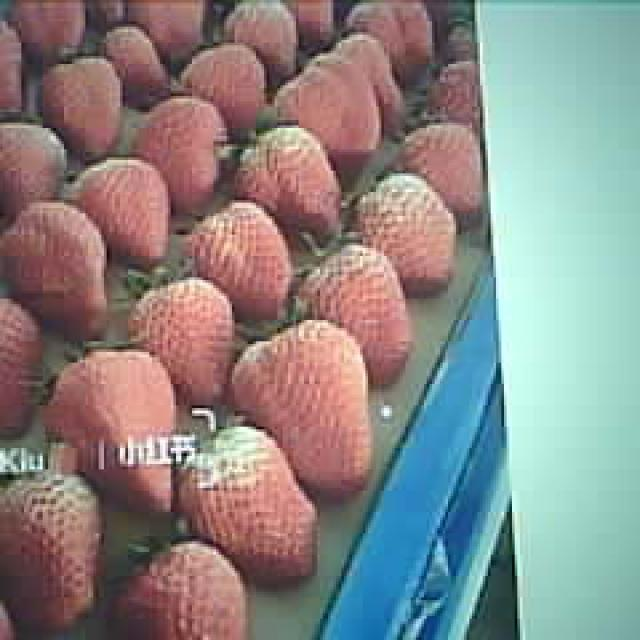ripe: (236, 326, 372, 494), (52, 344, 177, 508), (192, 427, 319, 582), (5, 464, 97, 626), (304, 246, 411, 379), (4, 202, 109, 329), (132, 268, 230, 402), (189, 199, 290, 319), (360, 173, 460, 293), (124, 542, 243, 640), (235, 126, 331, 234)
